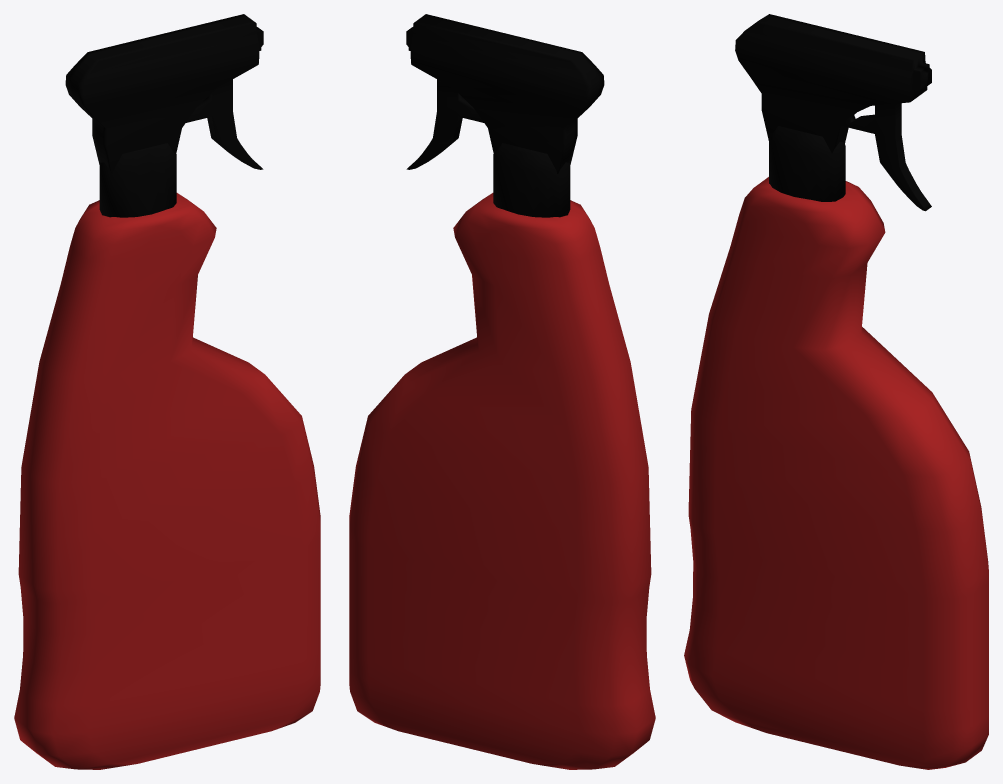
The model's file is Cleaning_Bottle_4.fbx.
3 views of the same model, side by side, from view 1: azimuth 30°, elevation 25°; view 2: azimuth 150°, elevation 25°; view 3: azimuth 330°, elevation 25° (orthographic).
Visible parts, largest first — view 1: Cube.169; view 2: Cube.169; view 3: Cube.169.
Part boxes in pixels (<box>): Cube.169: <box>14,14,320,769</box>; Cube.169: <box>349,14,655,769</box>; Cube.169: <box>684,14,988,769</box>.
Bounding box in the file's own units: 11.1 × 25.6 × 3.08.
